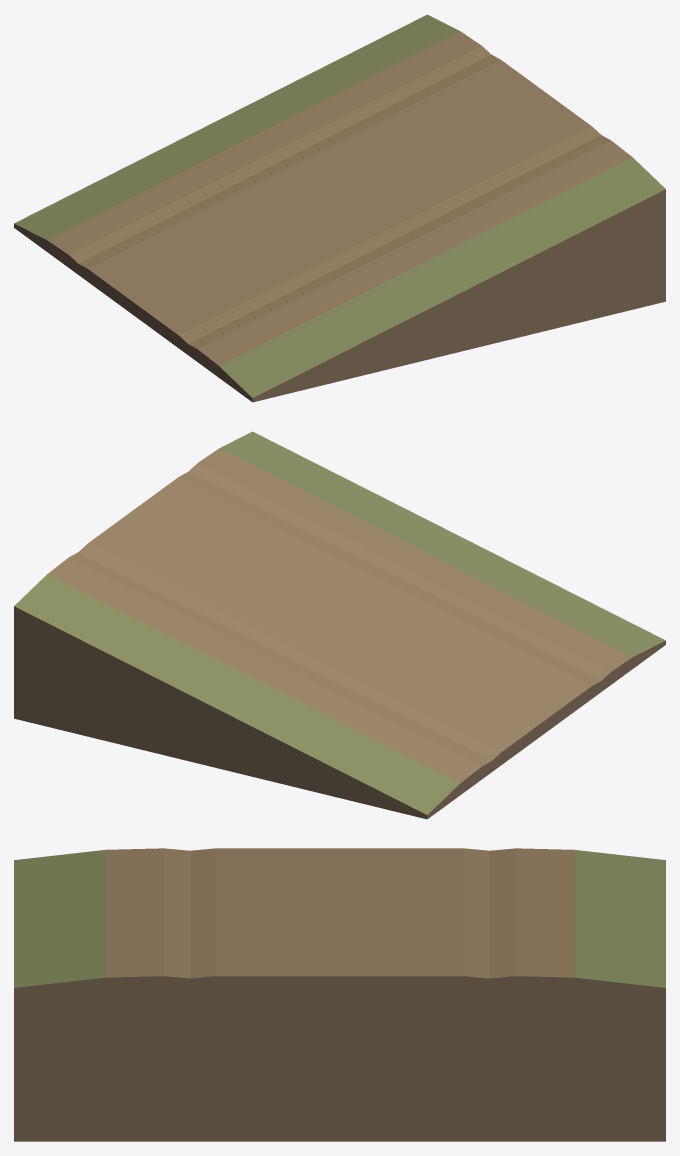
3 renders of one model, top to bottom at view 1: azimuth 30°, elevation 25°; view 2: azimuth 150°, elevation 25°; view 3: azimuth 270°, elevation 25°, orthographic. The views are drawn at different scales.
Parts seen in each view (by area): view 1: village-soil-road-grade-2m-01; view 2: village-soil-road-grade-2m-01; view 3: village-soil-road-grade-2m-01.
Part boxes in pixels (x1,y1,x2,y2): village-soil-road-grade-2m-01: (14, 14, 665, 402); village-soil-road-grade-2m-01: (14, 431, 665, 819); village-soil-road-grade-2m-01: (14, 848, 665, 1141).
Bounding box in the file's own units: 2 × 0.56 × 2.
